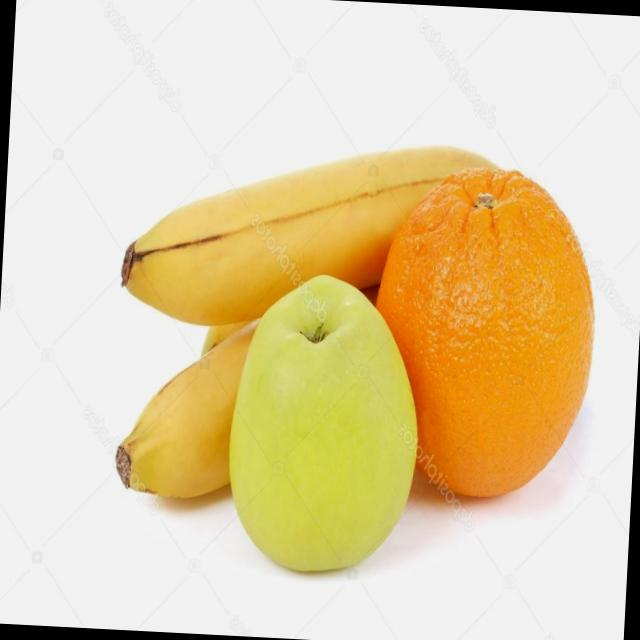banana: (100, 239, 480, 524), (99, 114, 520, 336)
orange: (355, 155, 607, 521)
